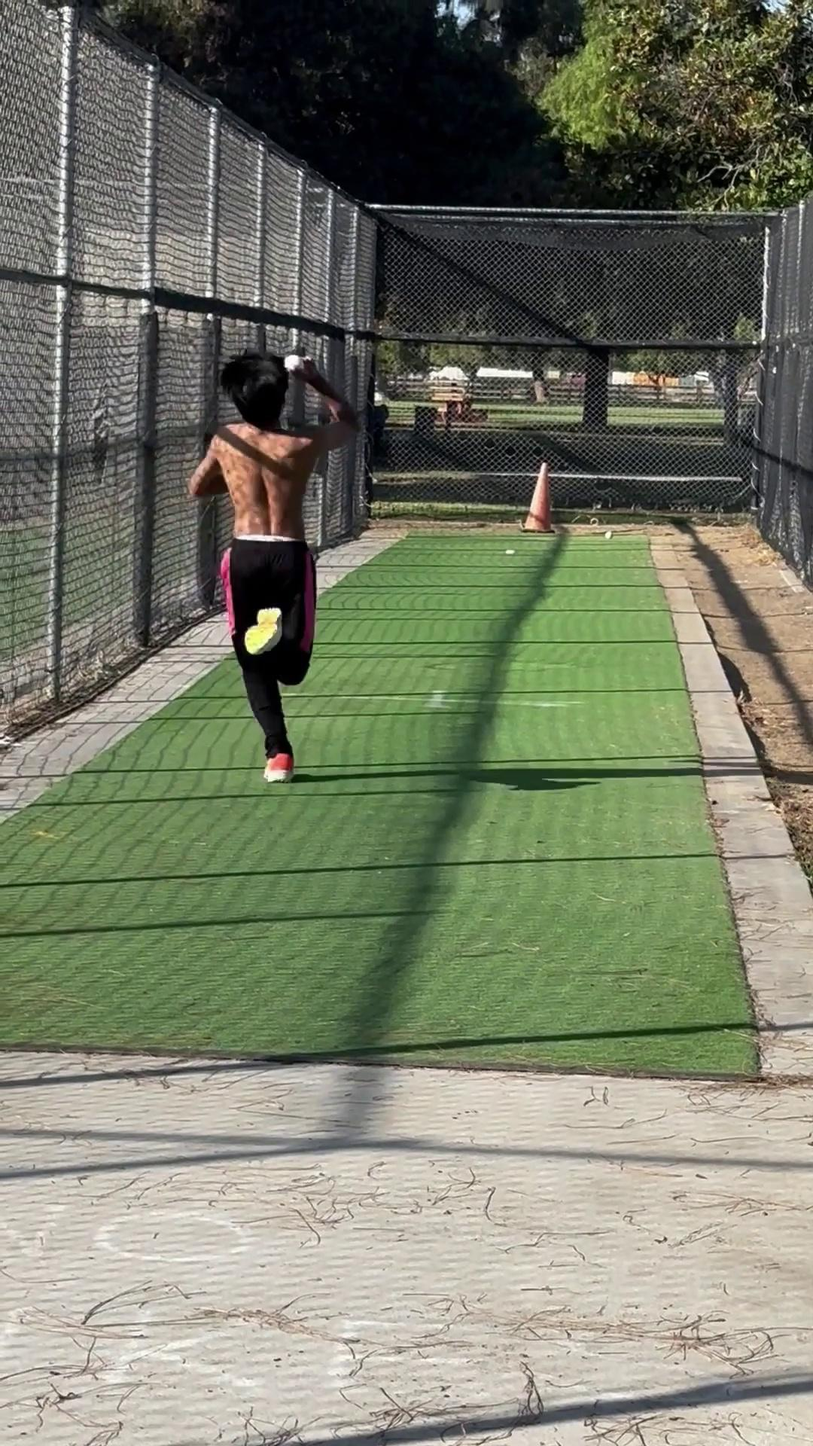ball: (279, 349, 309, 378)
